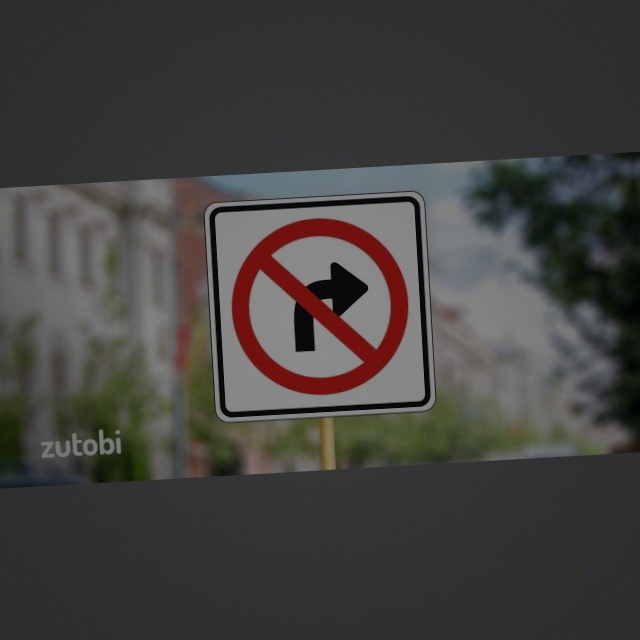Right_Turn_Prohibited: (223, 205, 422, 406)
